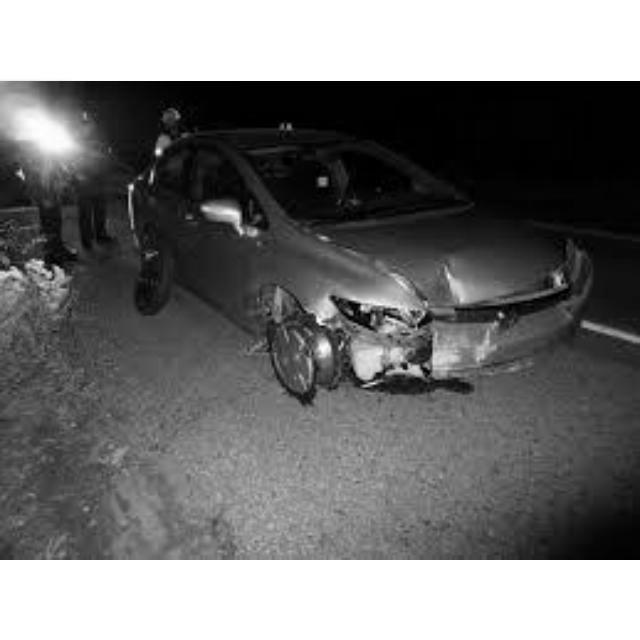bonnet-dent: (376, 232, 514, 303)
front-bumper-dent: (357, 315, 490, 389)
